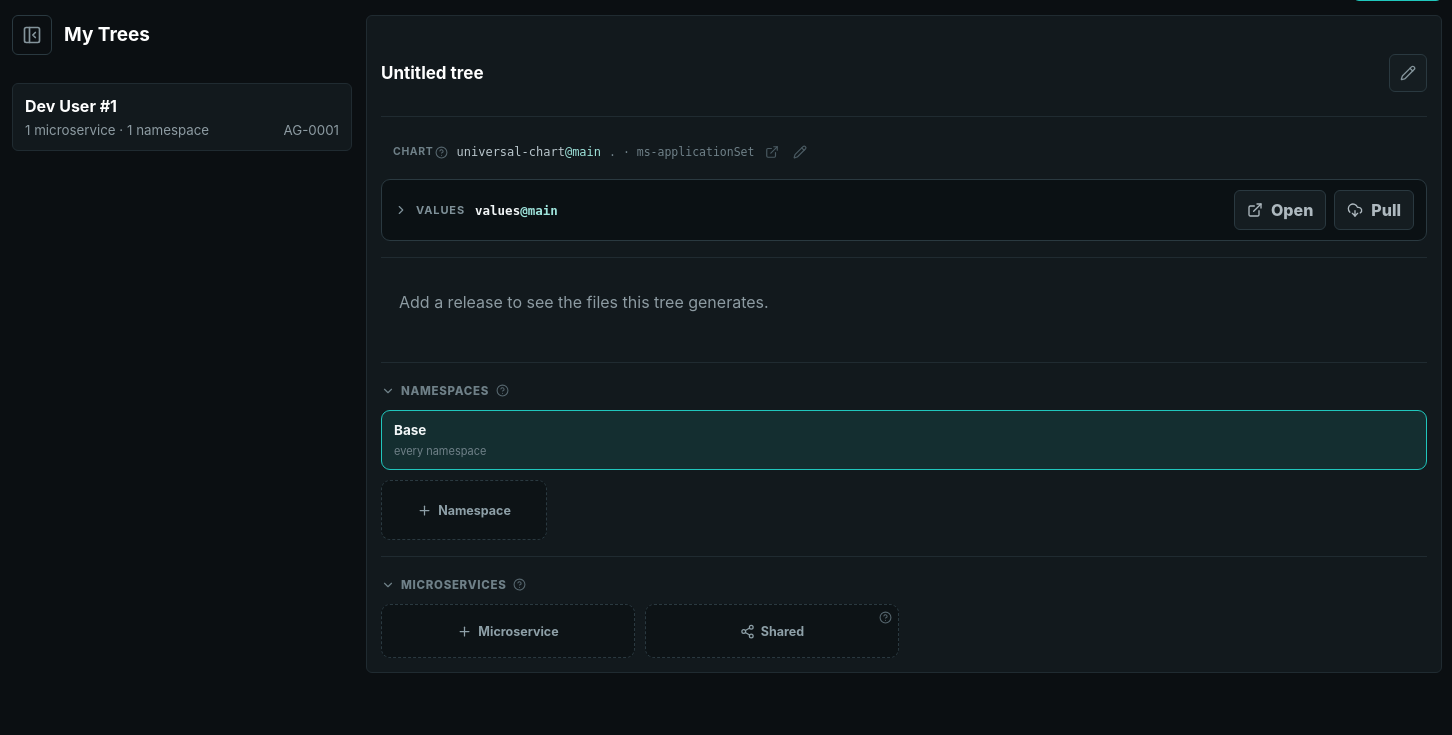
ArgocdView › continues an inherited list here: greyed entries, then an Add that adds this namespace's own
Click the text "Dev User #1" at coordinates (71, 106), box top-left (25, 96), bottom-right (117, 116)
(page scrolled)
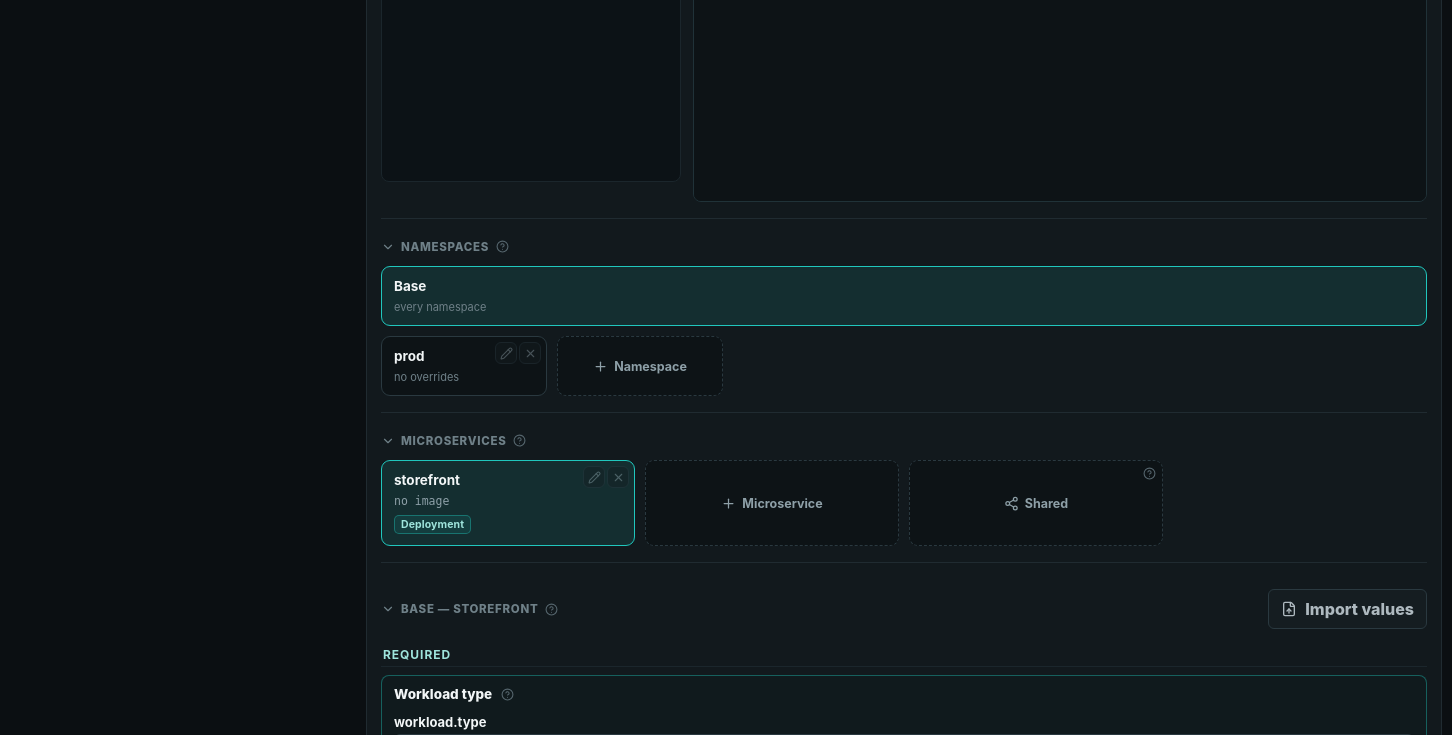
Click the button "prod no overrides" at coordinates (464, 366), box top-left (381, 336), bottom-right (547, 396)
(page scrolled)
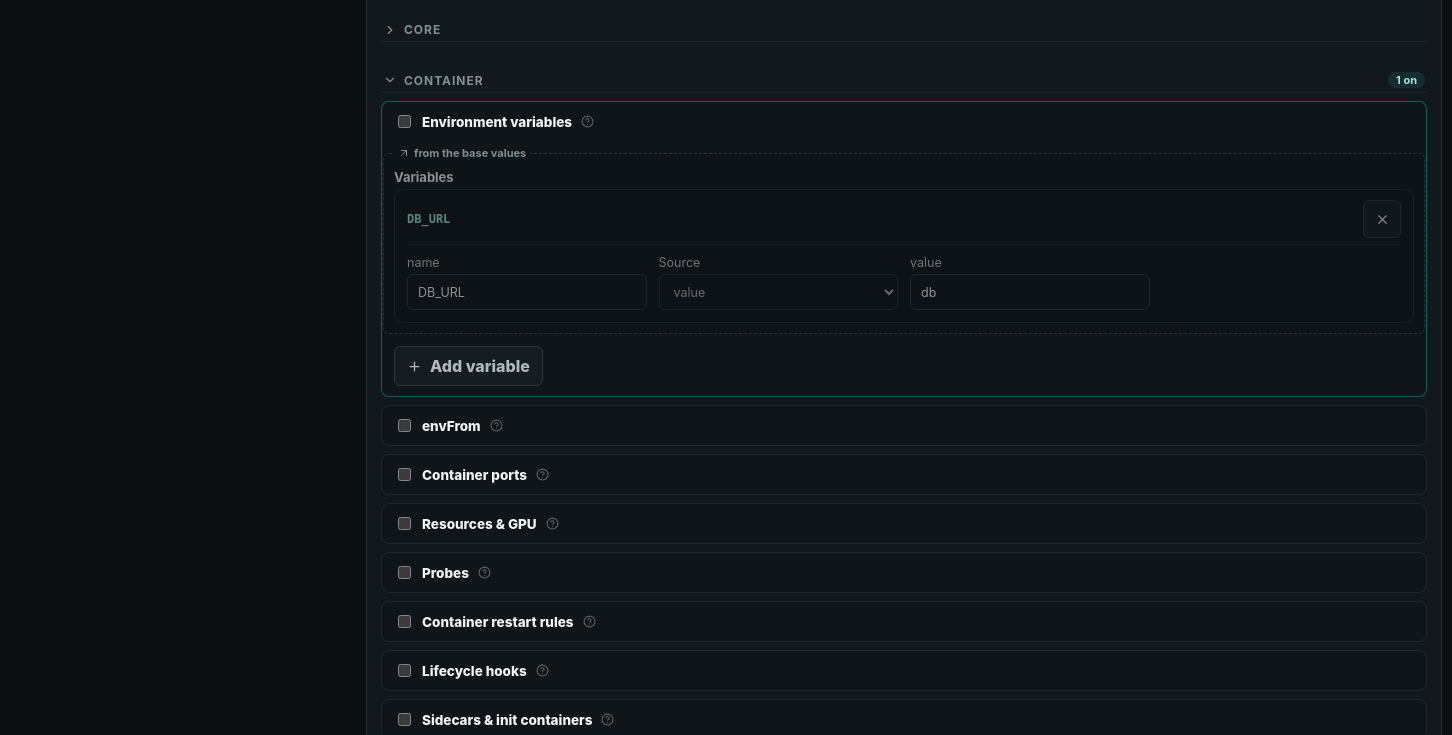
Expected: the button "Add variable" is enabled
Expected: the text "DB_URL" is shown once, top-left (407, 212), bottom-right (450, 226)
Expected: the number of buttons "Add variable" is 1
Click the button "Add variable" at coordinates (468, 366), box top-left (394, 346), bottom-right (543, 386)
(page scrolled)
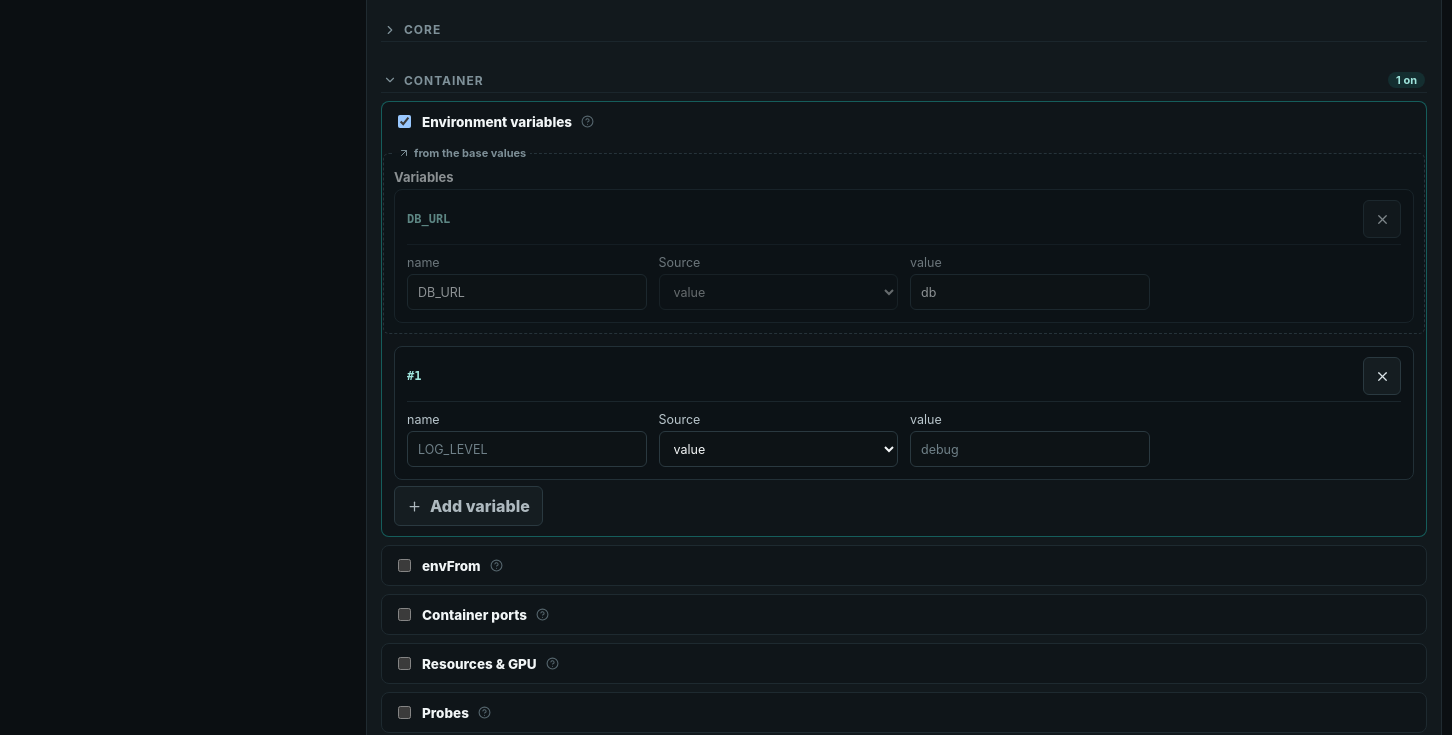
Expected: the text "#1" is shown, top-left (407, 369), bottom-right (422, 383)
